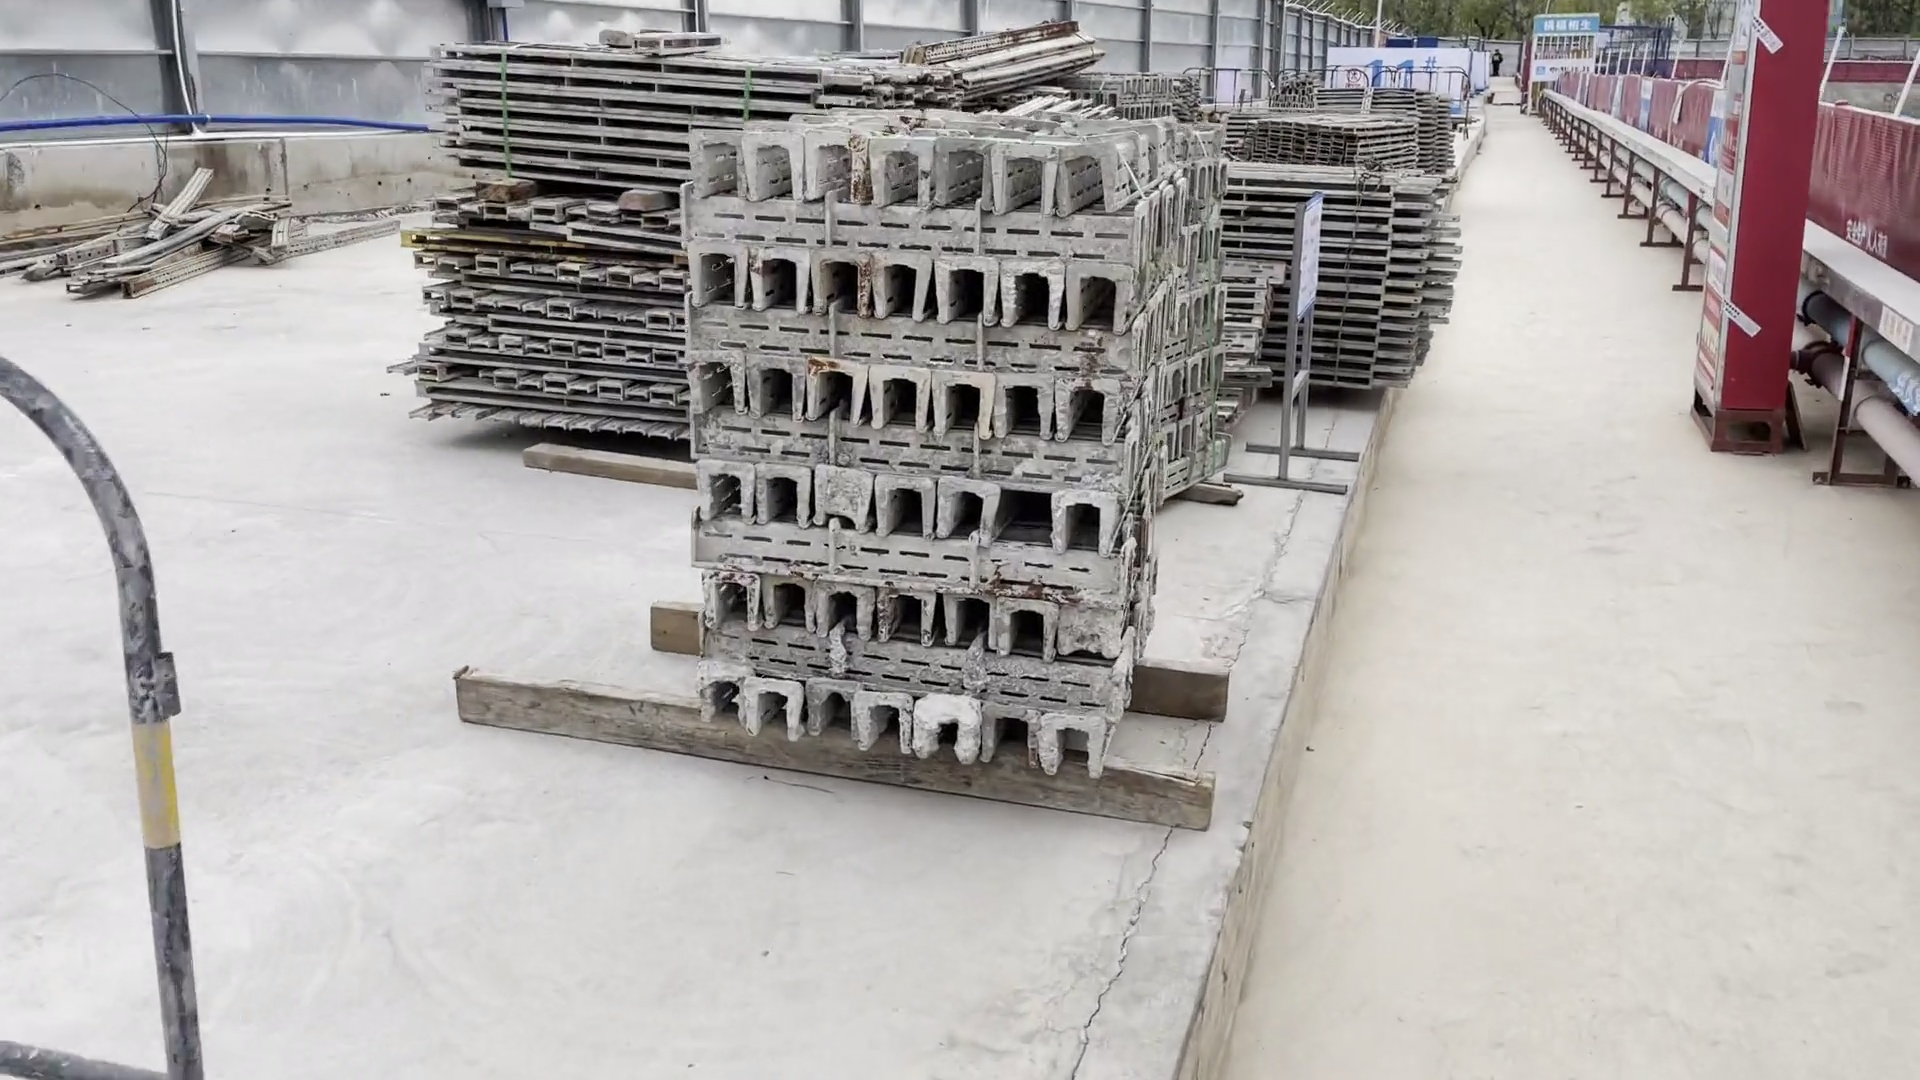fence: (1818, 107, 1920, 308), (1567, 73, 1708, 172)
person: (1482, 39, 1517, 79)
slogan: (1280, 188, 1338, 324), (1694, 73, 1733, 182), (1629, 73, 1671, 166), (1521, 11, 1613, 39), (1534, 49, 1596, 88)
vest: (1491, 53, 1504, 63)
